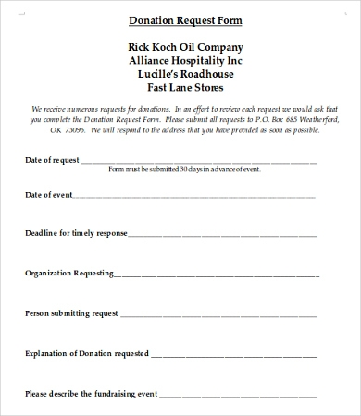textline: (119, 300, 318, 320), (113, 262, 322, 280), (72, 186, 319, 201), (127, 220, 321, 239), (149, 340, 318, 361), (157, 380, 319, 401), (80, 151, 321, 165)
